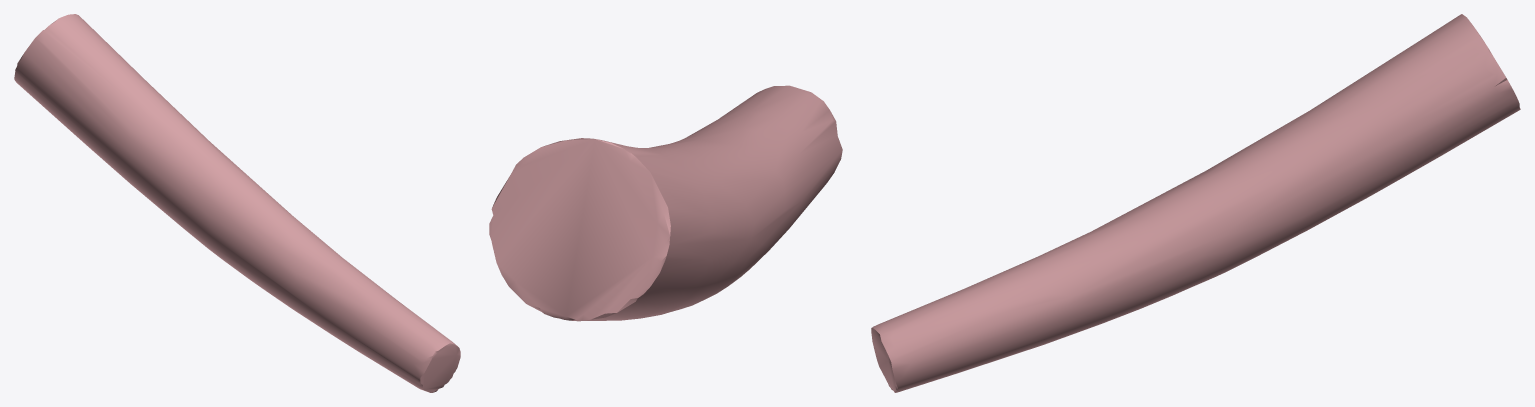
File: fma68214_fj2508.glb
3 views of the same model, side by side, from view 1: azimuth 30°, elevation 25°; view 2: azimuth 150°, elevation 25°; view 3: azimuth 270°, elevation 25° (orthographic). The views are drawn at different scales.
Visible parts, largest first — view 1: FMA68214_FJ2508; view 2: FMA68214_FJ2508; view 3: FMA68214_FJ2508.
Part boxes in pixels (<box>): FMA68214_FJ2508: <box>14,14,460,392</box>; FMA68214_FJ2508: <box>489,85,842,321</box>; FMA68214_FJ2508: <box>871,14,1520,392</box>.
Bounding box in the file's own units: 0.0103 × 0.0113 × 0.0231.
